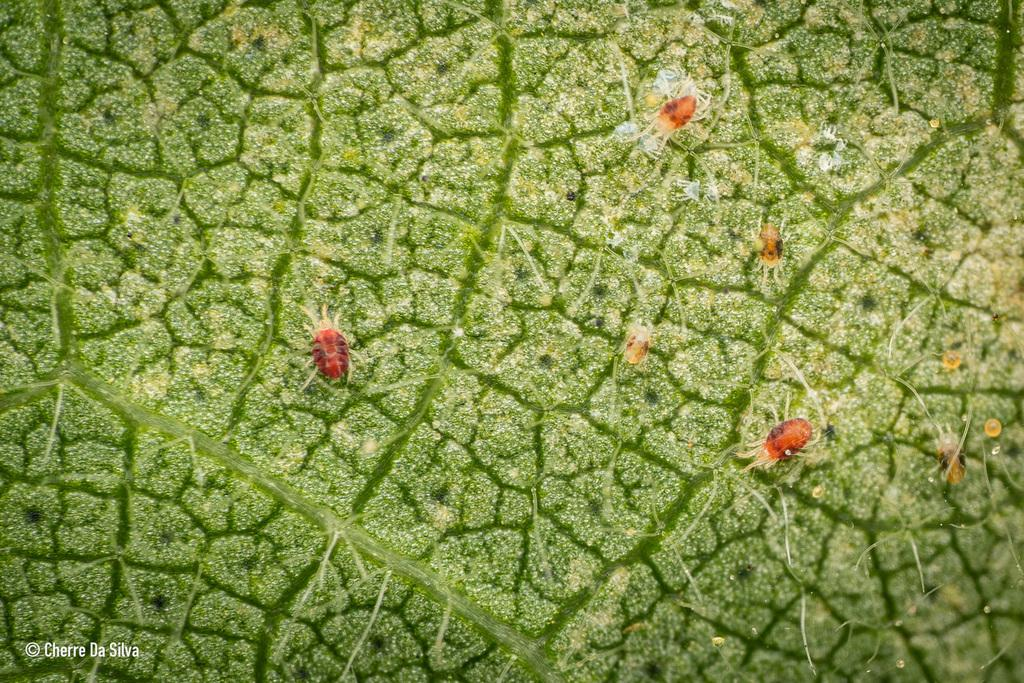tiny_pests: (595, 46, 755, 179), (272, 290, 391, 414), (720, 382, 840, 503), (592, 305, 685, 402), (729, 193, 811, 298), (915, 410, 987, 519)
